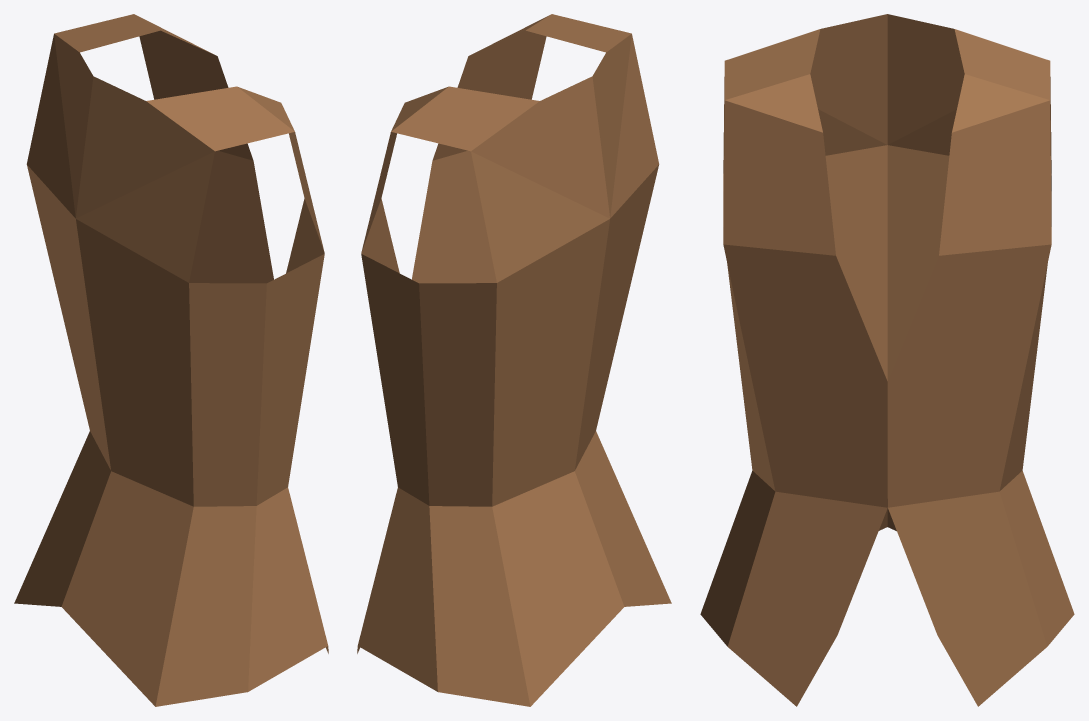
The model's file is SM_MC_Vest.fbx.
The picture shows the model from 3 angles, left to right: view 1: azimuth 30°, elevation 25°; view 2: azimuth 150°, elevation 25°; view 3: azimuth 270°, elevation 25°; orthographic projection.
Visible parts, largest first — view 1: Vest; view 2: Vest; view 3: Vest.
Boxes of the visible parts, left/top/right/bottom form: Vest: left=14, top=14, right=328, bottom=706; Vest: left=357, top=14, right=671, bottom=706; Vest: left=700, top=14, right=1074, bottom=706.
Size of the model in its own units: 25.64 by 65.22 by 36.93.
